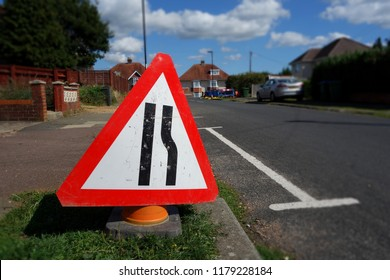car: (254, 75, 307, 103)
narrow-road: (58, 54, 216, 202)
